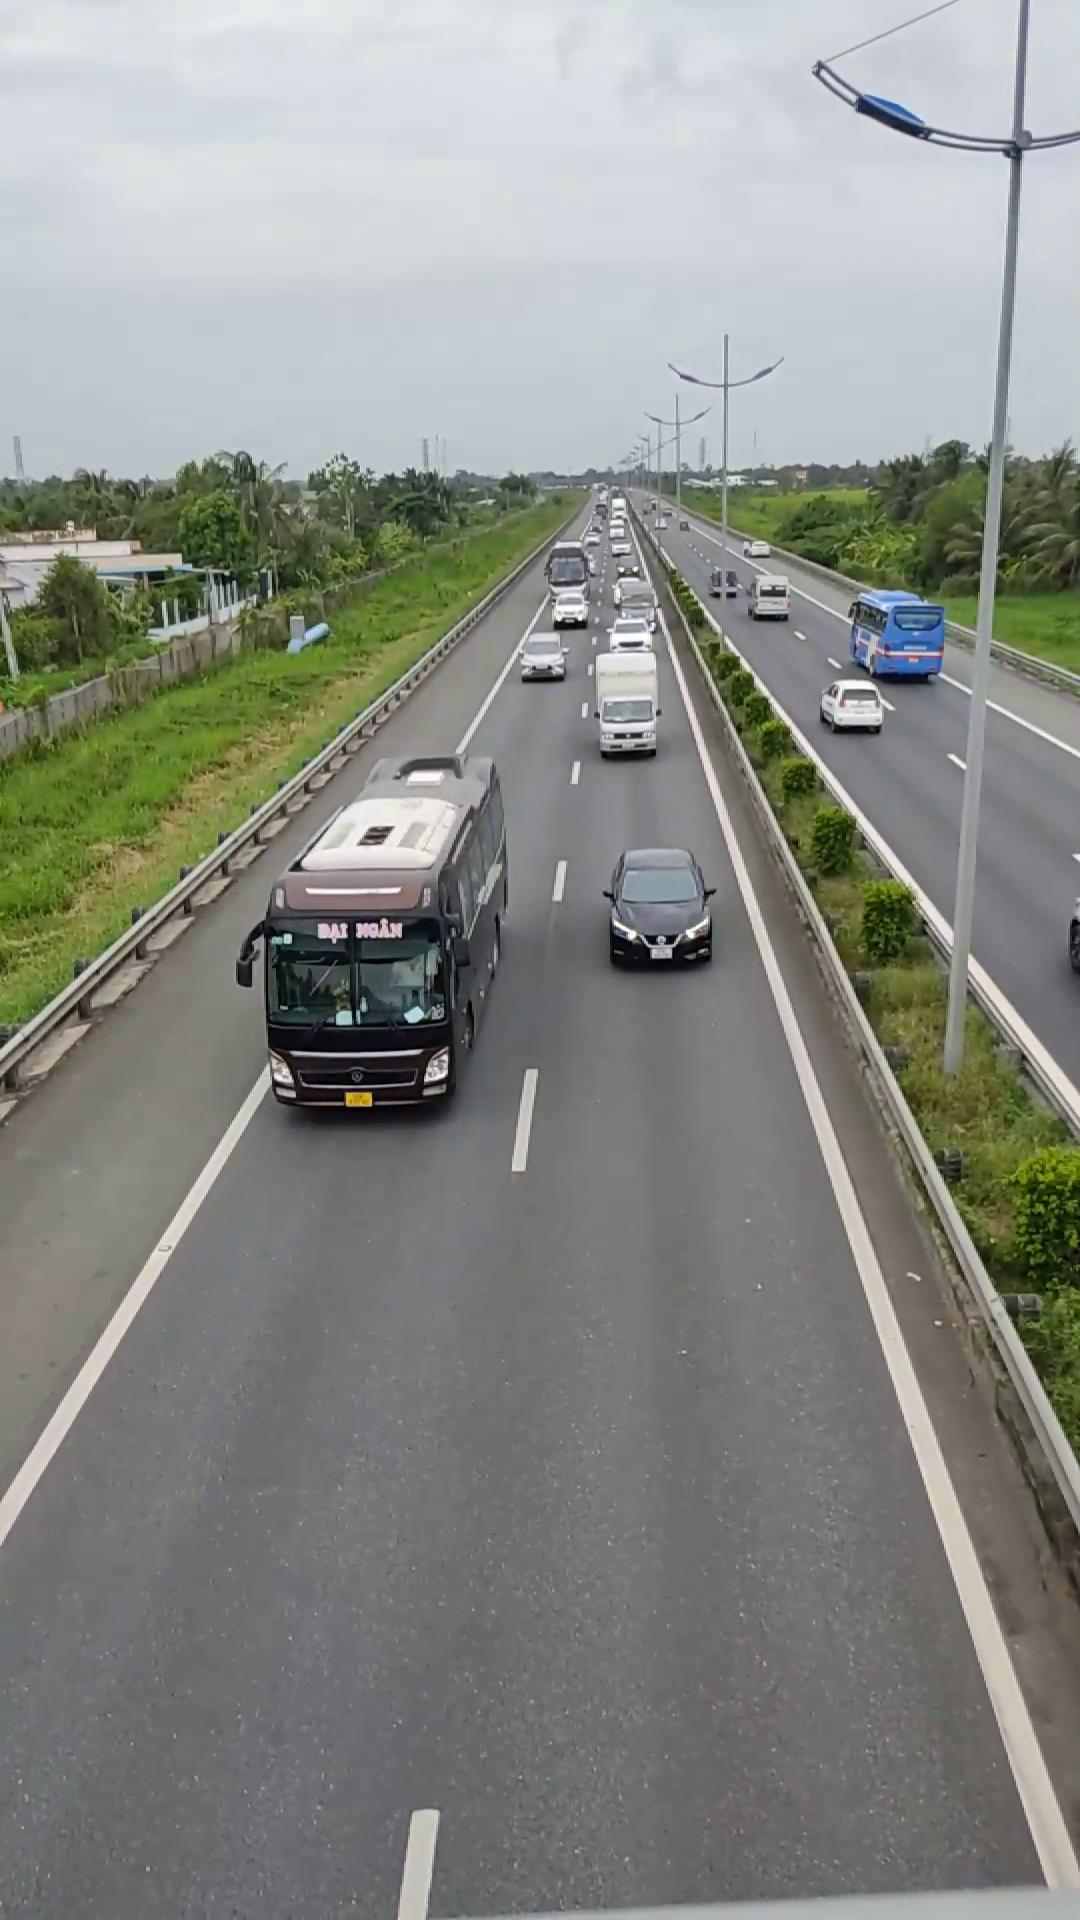bus: (245, 765, 512, 1116)
car: (603, 845, 715, 967)
truck: (849, 585, 945, 680), (589, 636, 665, 757)
